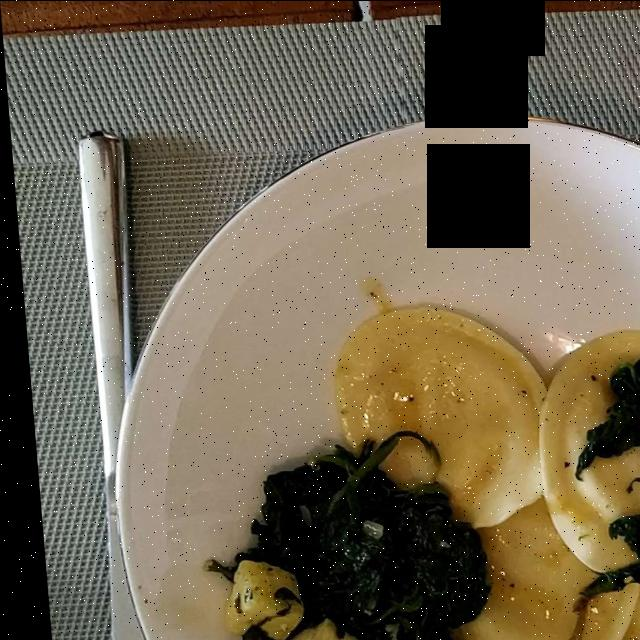pasta-tortelloni-stuffing: (332, 317, 640, 631)
